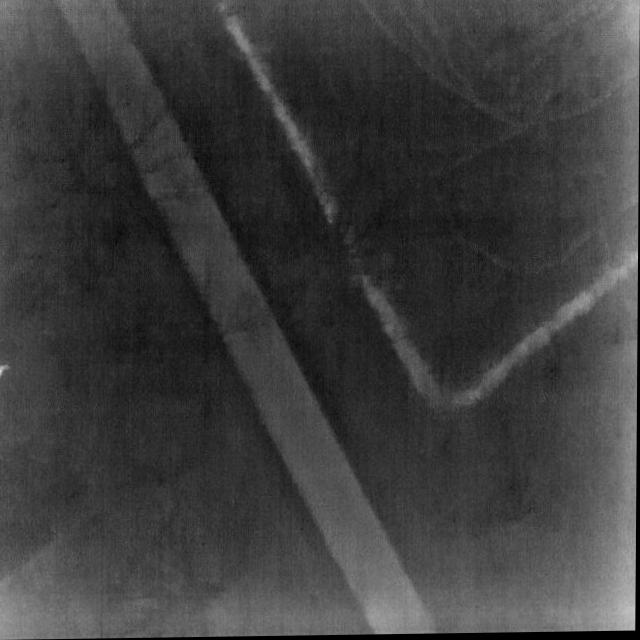deer: (0, 362, 12, 378)
